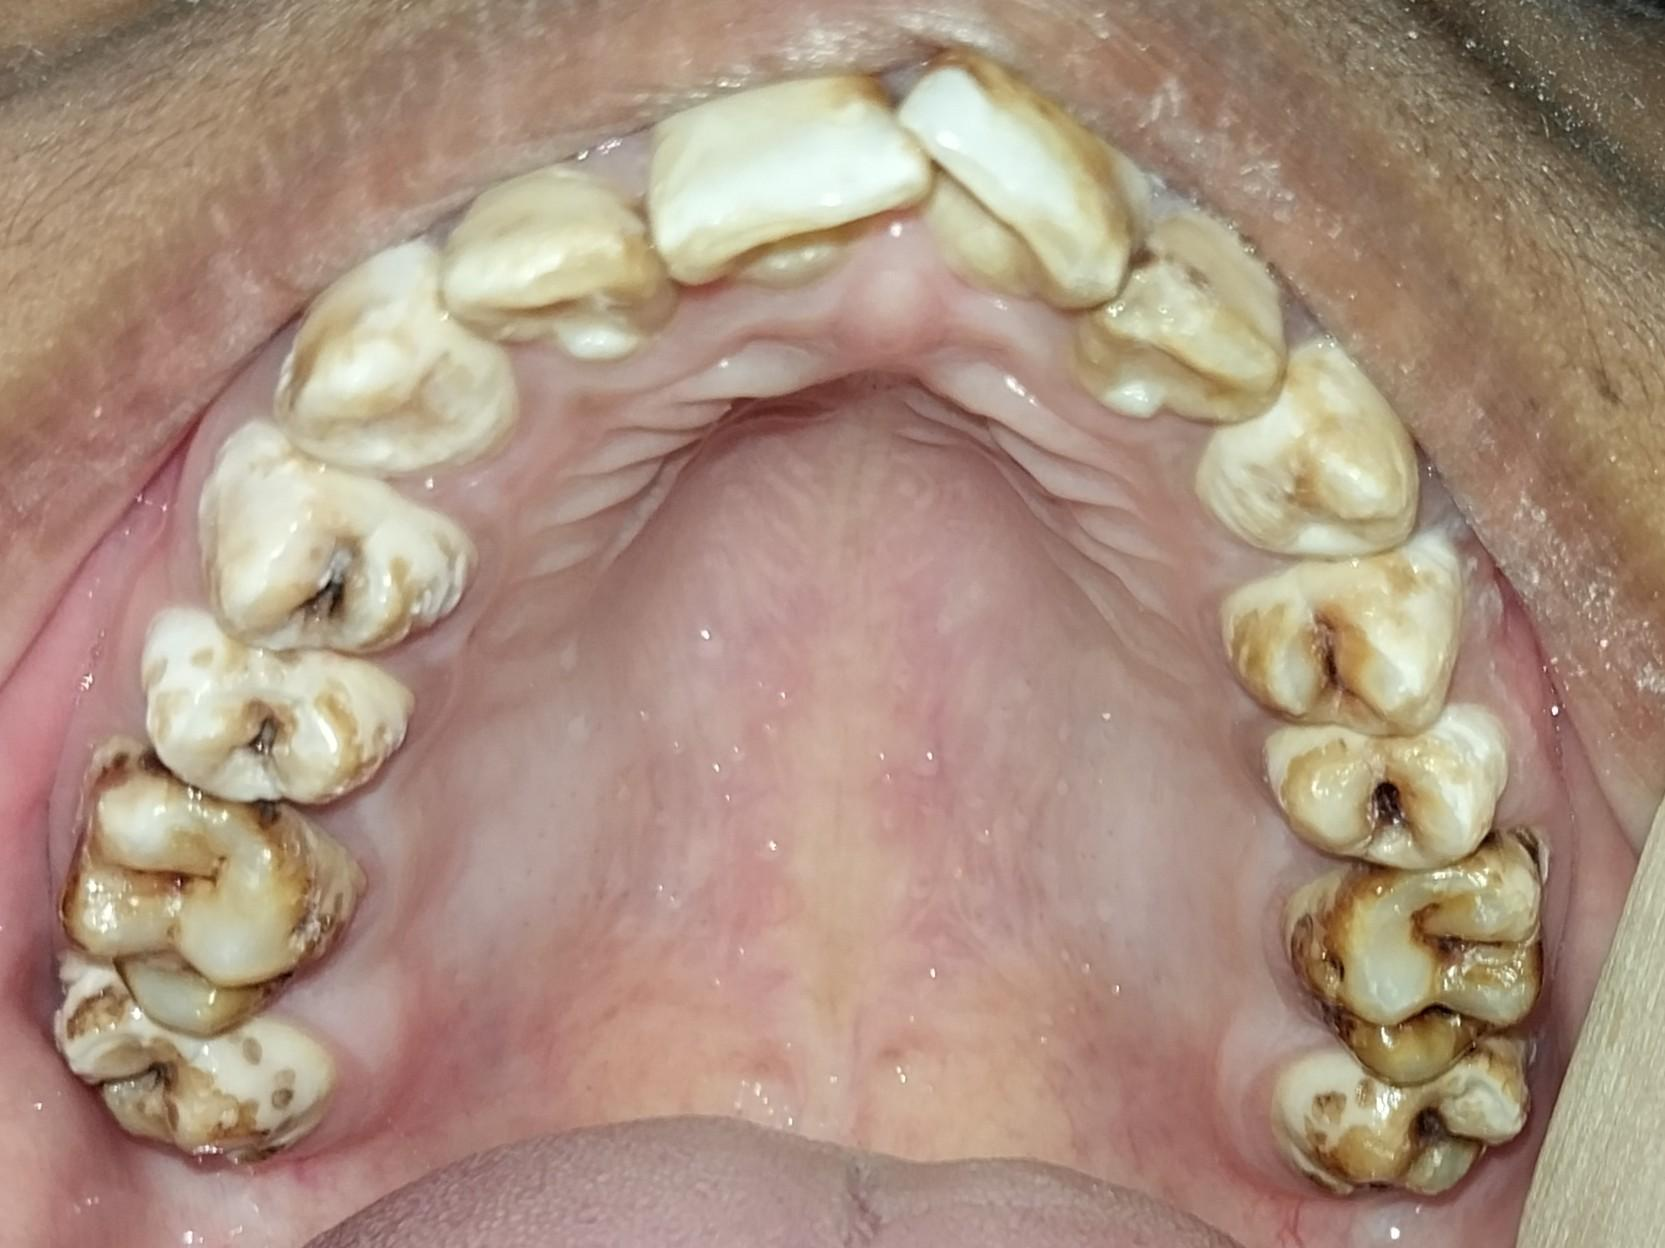D: (65, 762, 356, 1028), (1288, 858, 1549, 1081), (55, 964, 335, 1169), (202, 444, 468, 655), (136, 605, 409, 808), (1223, 558, 1442, 733), (1272, 722, 1501, 875), (1301, 1046, 1531, 1196)
